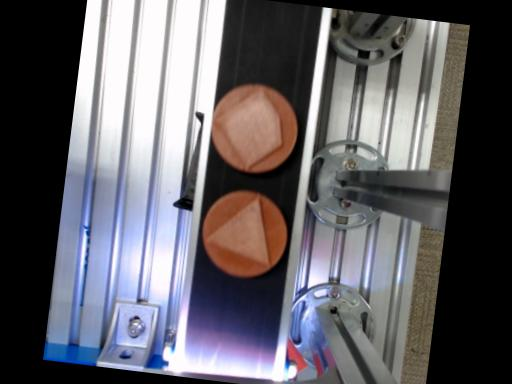Brown_Waper: (211, 83, 296, 173), (202, 190, 286, 277)
